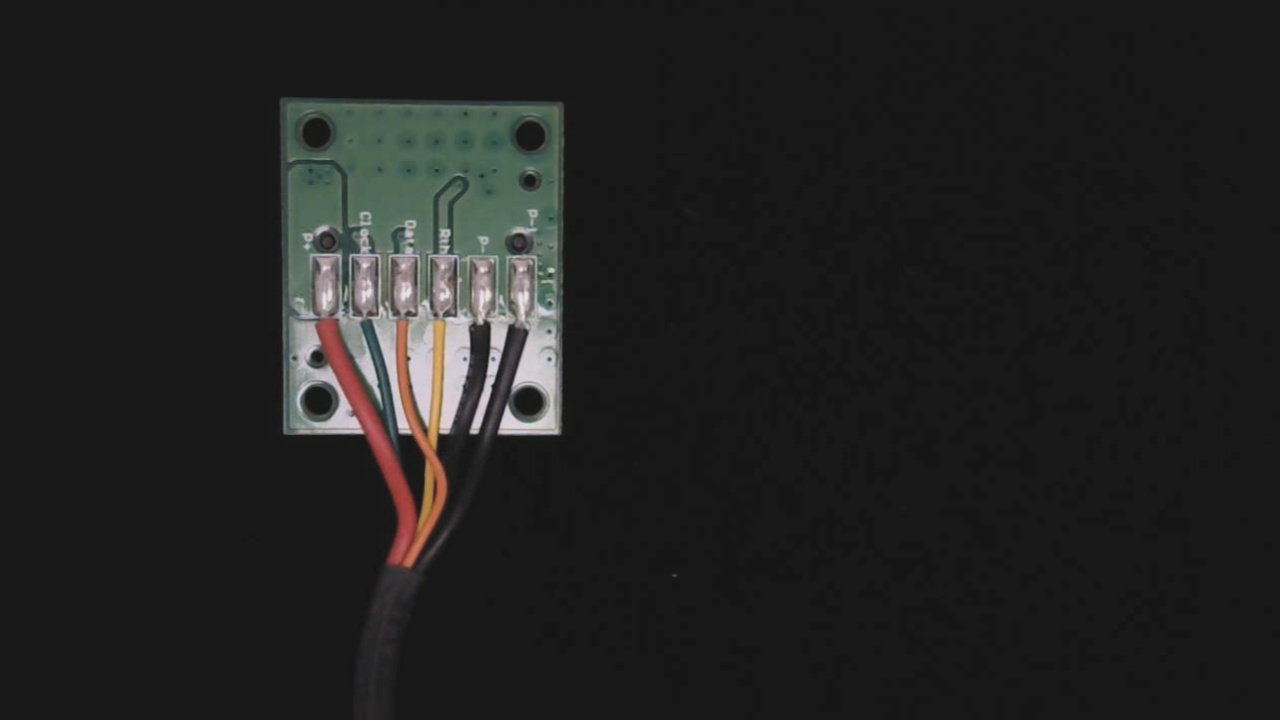Black: (468, 302, 495, 359)
Black1: (506, 303, 536, 360)
Green: (350, 299, 381, 352)
Orange: (388, 301, 420, 354)
Red: (312, 298, 339, 352)
Yellow: (426, 303, 459, 361)
